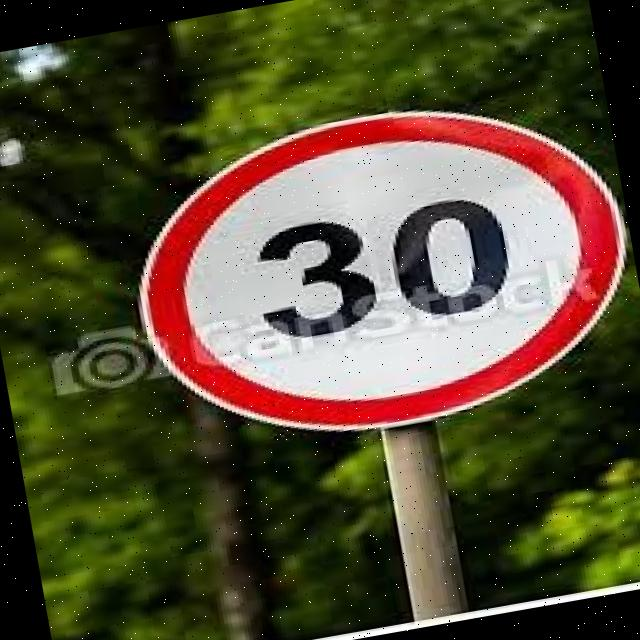speed_limit_30: (92, 65, 640, 474)
